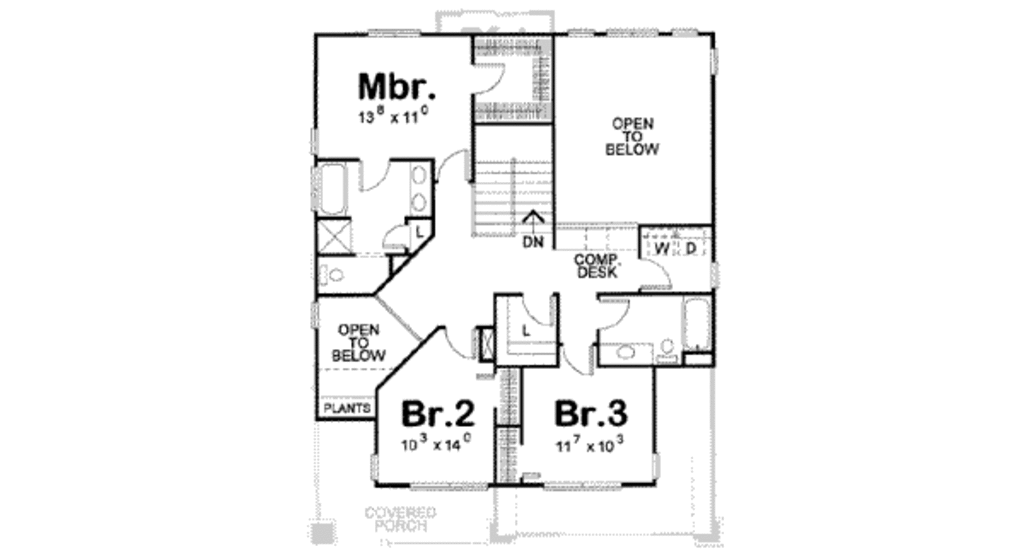door: (550, 335, 602, 386), (515, 285, 562, 337), (347, 151, 396, 200), (435, 318, 481, 364), (634, 251, 683, 294), (472, 62, 515, 102), (435, 144, 472, 187), (376, 219, 414, 253), (592, 299, 633, 327)
large_sink: (314, 256, 349, 289), (657, 337, 682, 367)
small_sink: (407, 157, 436, 216), (603, 341, 661, 367)
stairs: (469, 116, 563, 247)
tub: (315, 155, 347, 218), (682, 297, 713, 348)
window: (353, 19, 434, 46), (405, 482, 491, 495), (637, 443, 663, 482), (608, 23, 664, 41), (366, 449, 391, 485), (307, 294, 328, 334), (547, 480, 619, 491)
